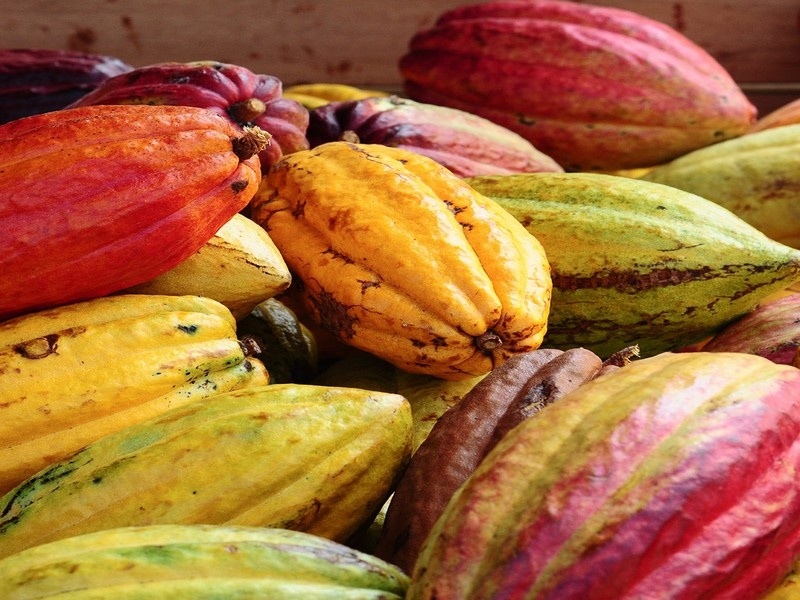Cacaopod: (482, 338, 800, 587), (267, 143, 551, 367), (9, 393, 426, 537), (399, 1, 741, 162), (3, 111, 272, 298), (3, 308, 263, 462)
